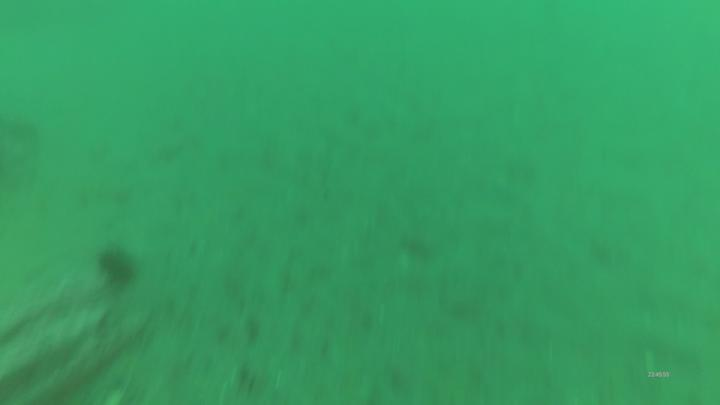echinus: (90, 242, 141, 292)
